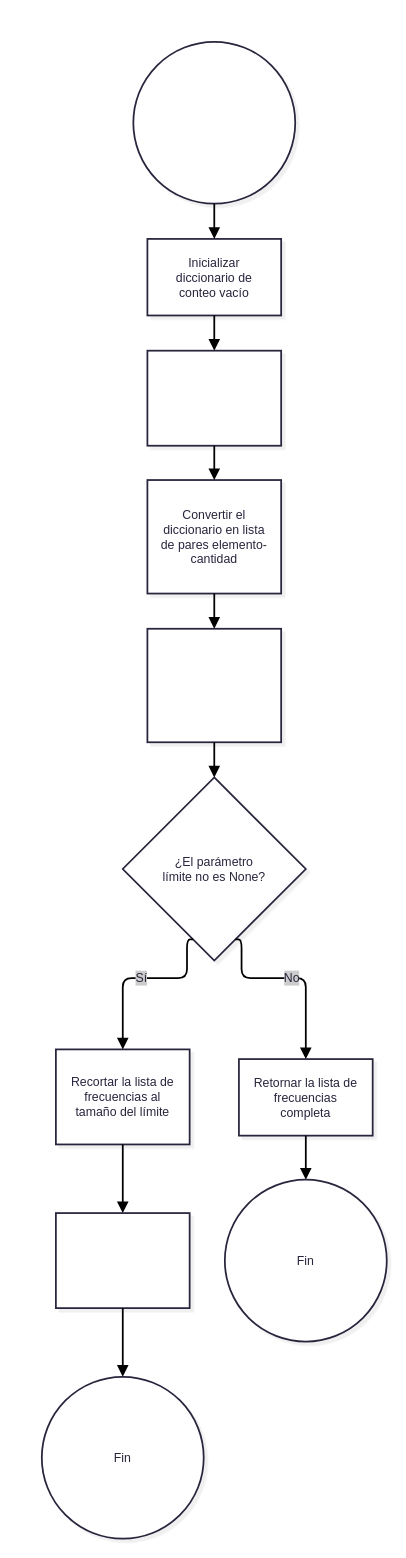
Image size: 406x1558. Some labels were removed from this diagram. Each missing label, with the centre of its shape:
Aplicar ordenamiento por burbuja según la frecuencia: pixel 215 686
Inicio: pixel 215 124
Iterar sobre cada elemento para acumular frecuencias: pixel 215 399
Retornar la lista de frecuencias ordenada y recortada: pixel 124 1262
